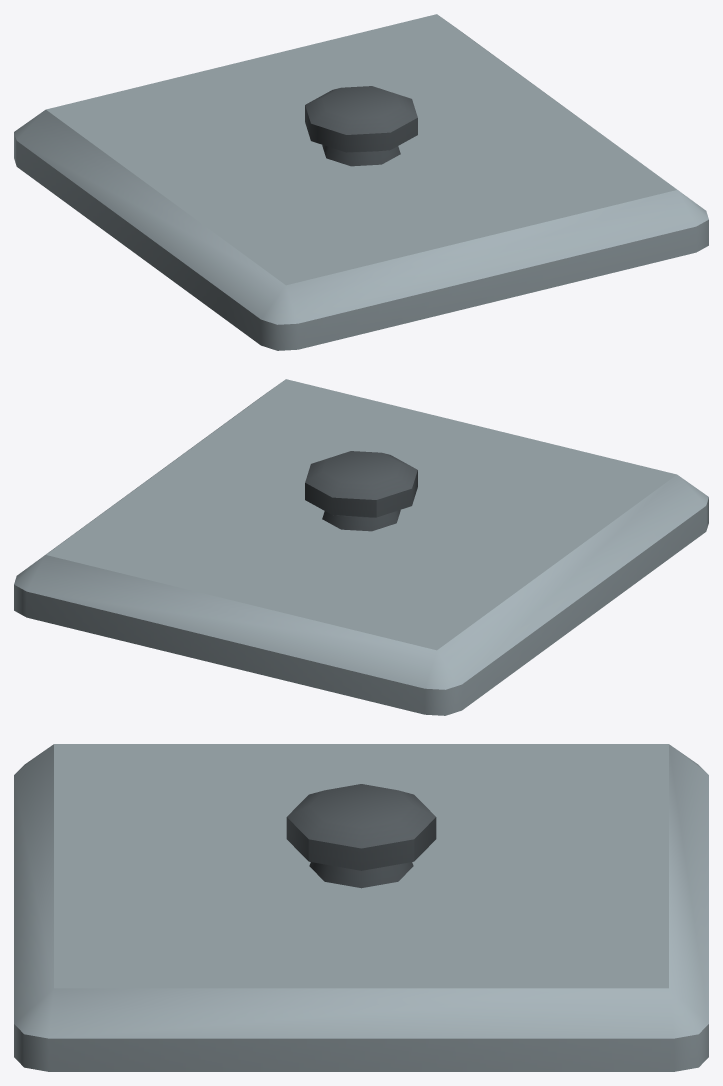
The model's file is icecream_container_top_lid.obj.
3 renders of one model, top to bottom at view 1: azimuth 30°, elevation 25°; view 2: azimuth 150°, elevation 25°; view 3: azimuth 270°, elevation 25°, orthographic. The views are drawn at different scales.
Visible parts, largest first — view 1: icecream_container_top_lid_Cube.385; view 2: icecream_container_top_lid_Cube.385; view 3: icecream_container_top_lid_Cube.385.
Part boxes in pixels (x1,y1,x2,y2): icecream_container_top_lid_Cube.385: (14, 14, 708, 350); icecream_container_top_lid_Cube.385: (14, 379, 708, 715); icecream_container_top_lid_Cube.385: (14, 744, 708, 1071).
Size of the model in its own units: 0.8948 by 0.1904 by 0.9448.
Materials: 1 (1 with a texture image).
